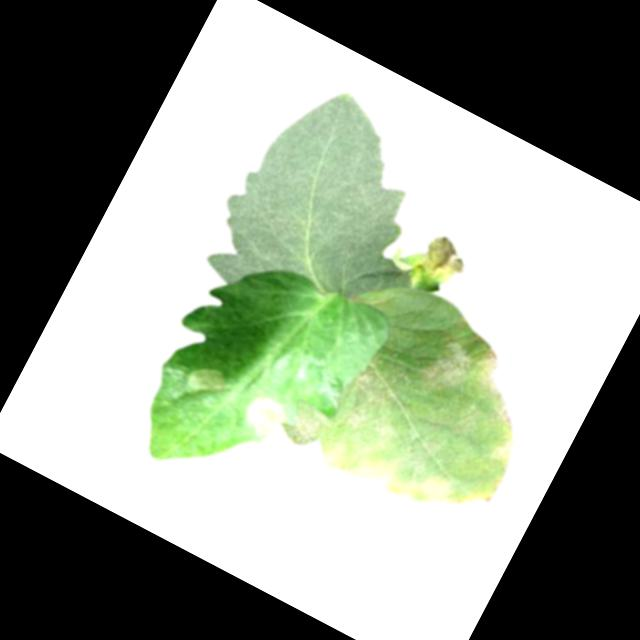Late_blight: (272, 277, 555, 543), (415, 227, 476, 288), (238, 389, 291, 440), (183, 358, 233, 406)
